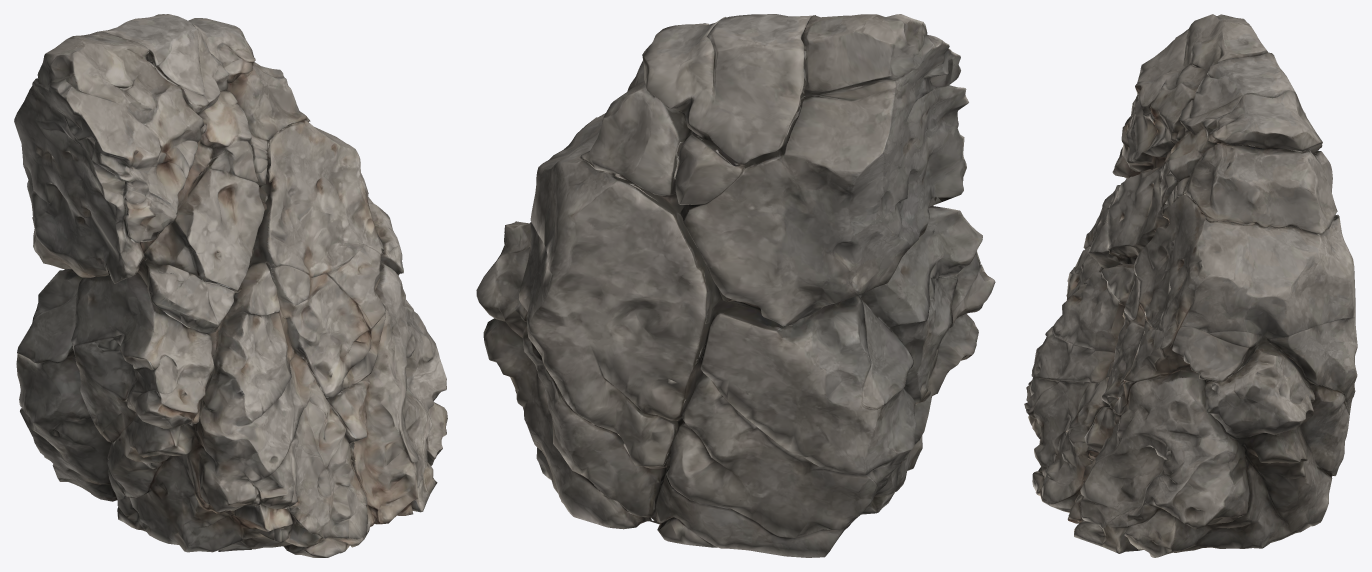
The model's file is crag_d.glb.
The picture shows the model from 3 angles, left to right: view 1: azimuth 30°, elevation 25°; view 2: azimuth 150°, elevation 25°; view 3: azimuth 270°, elevation 25°; orthographic projection. The views are drawn at different scales.
Parts seen in each view (by area): view 1: crag_d; view 2: crag_d; view 3: crag_d.
Boxes of the visible parts, x1,y1,x2,y2 form: crag_d: (14, 14, 447, 557); crag_d: (476, 14, 995, 557); crag_d: (1024, 14, 1357, 557).
Size of the model in its own units: 40.08 by 47.03 by 34.81.
Materials: 1 (1 with a texture image).
